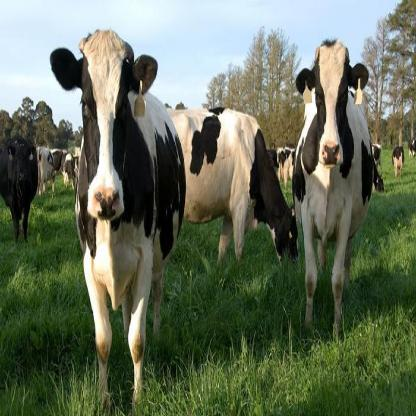cow: (49, 31, 185, 411), (296, 42, 374, 345), (174, 113, 300, 264), (0, 128, 40, 237)
